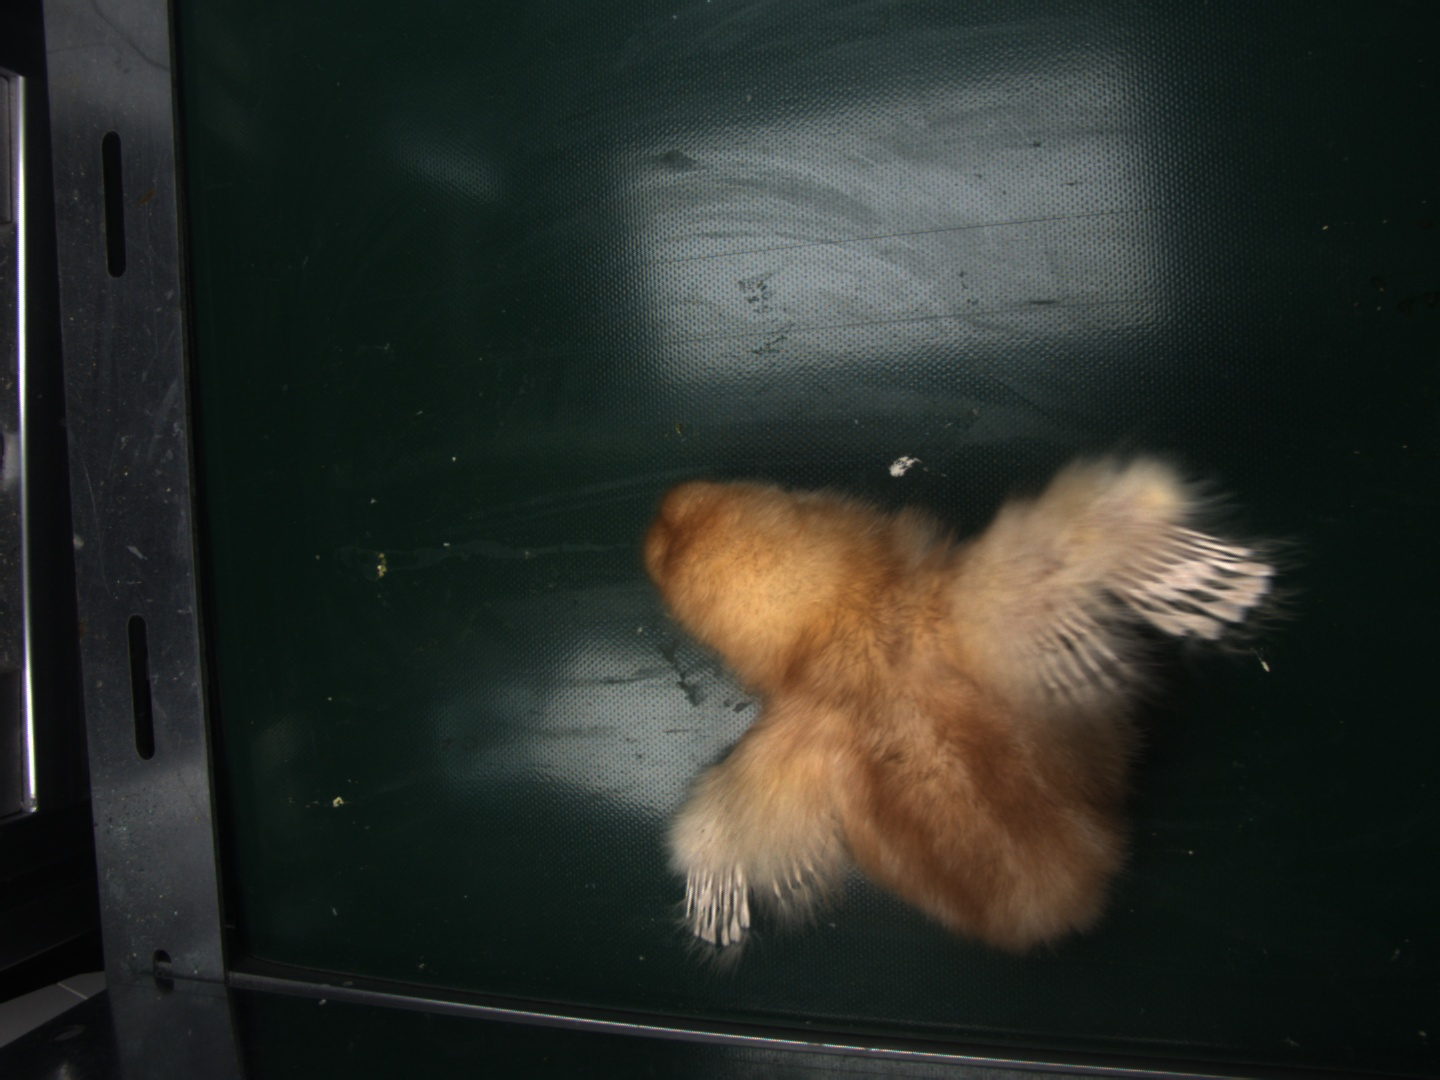female: (1118, 522, 1277, 640)
